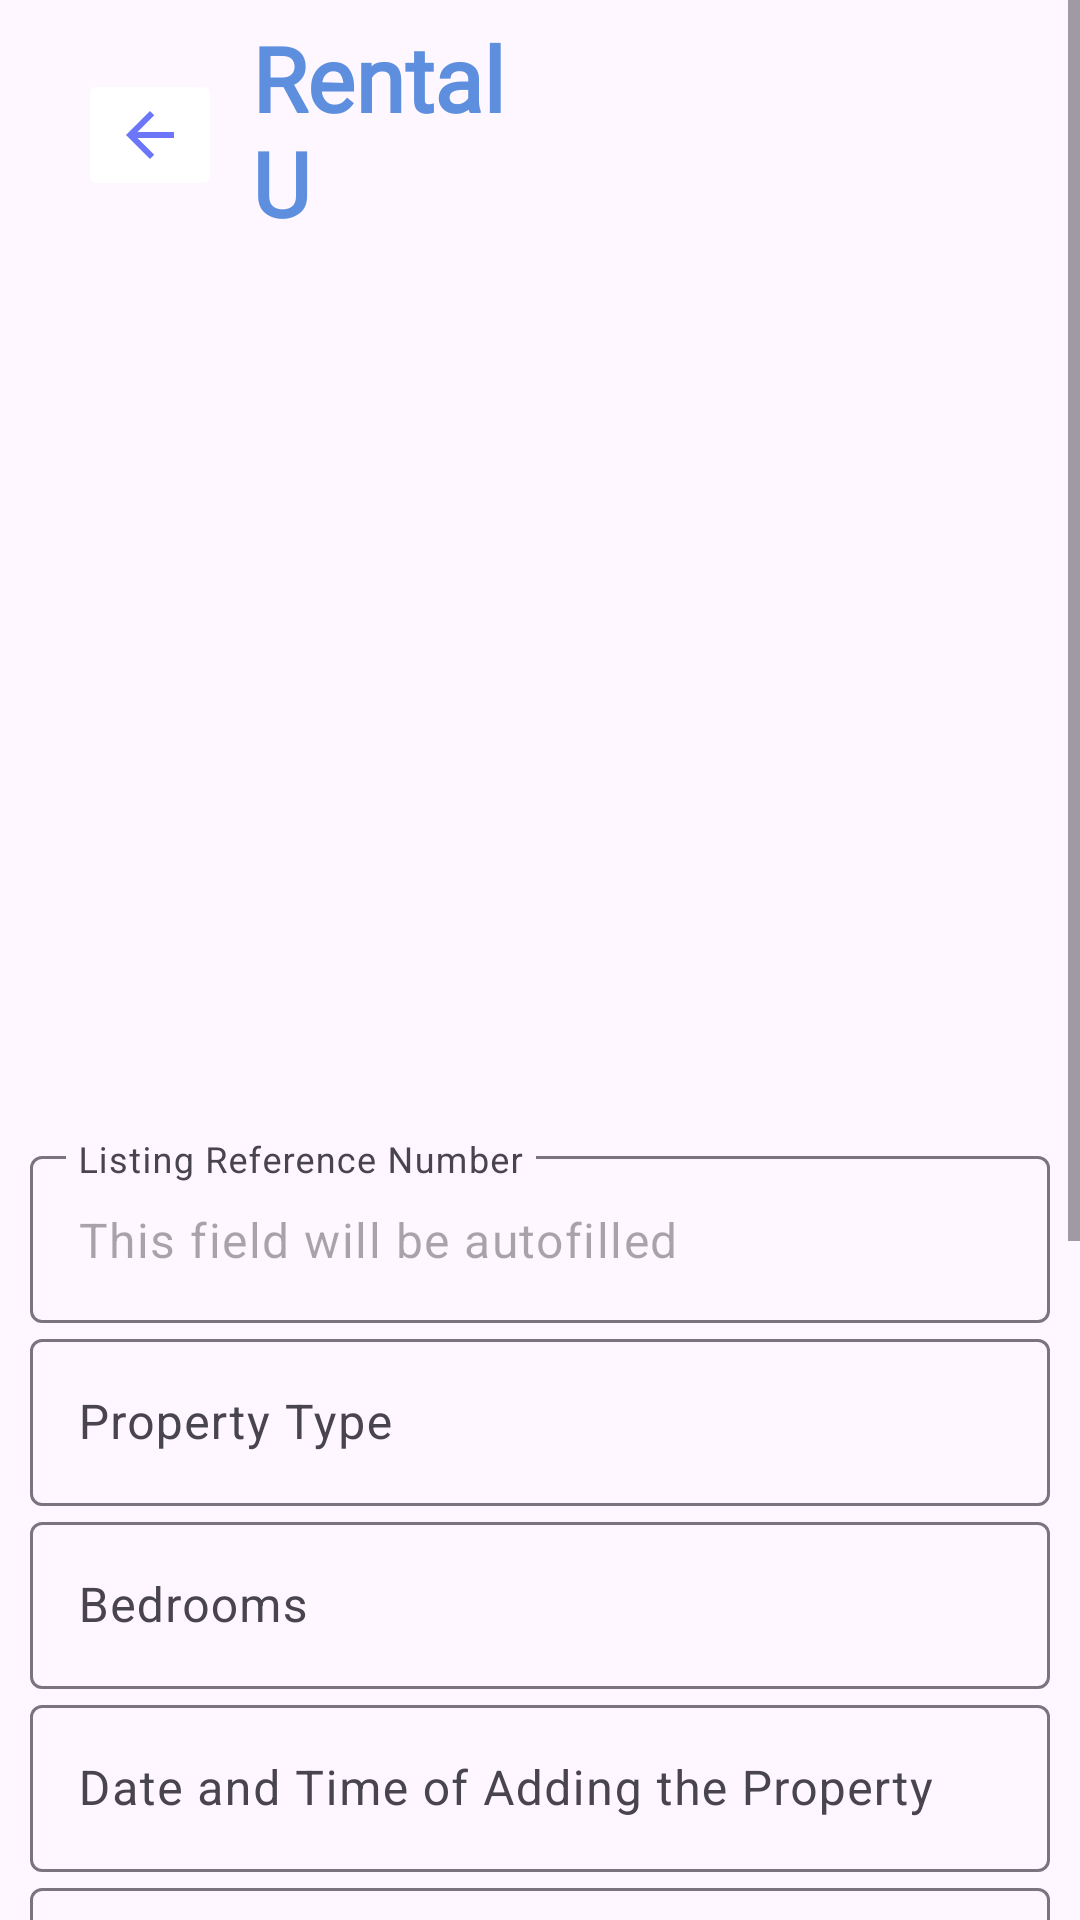

Locate icon controls on the screen. Image size 1080*1920, boxes as (x1, y1, x2, y2).
arrowback: (126, 111, 174, 159)
